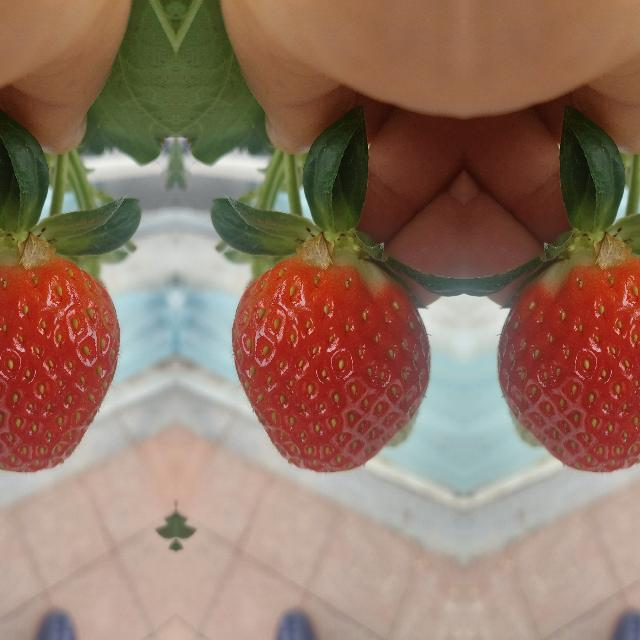Health_100: (230, 255, 430, 471), (496, 255, 640, 471), (0, 255, 119, 471)
